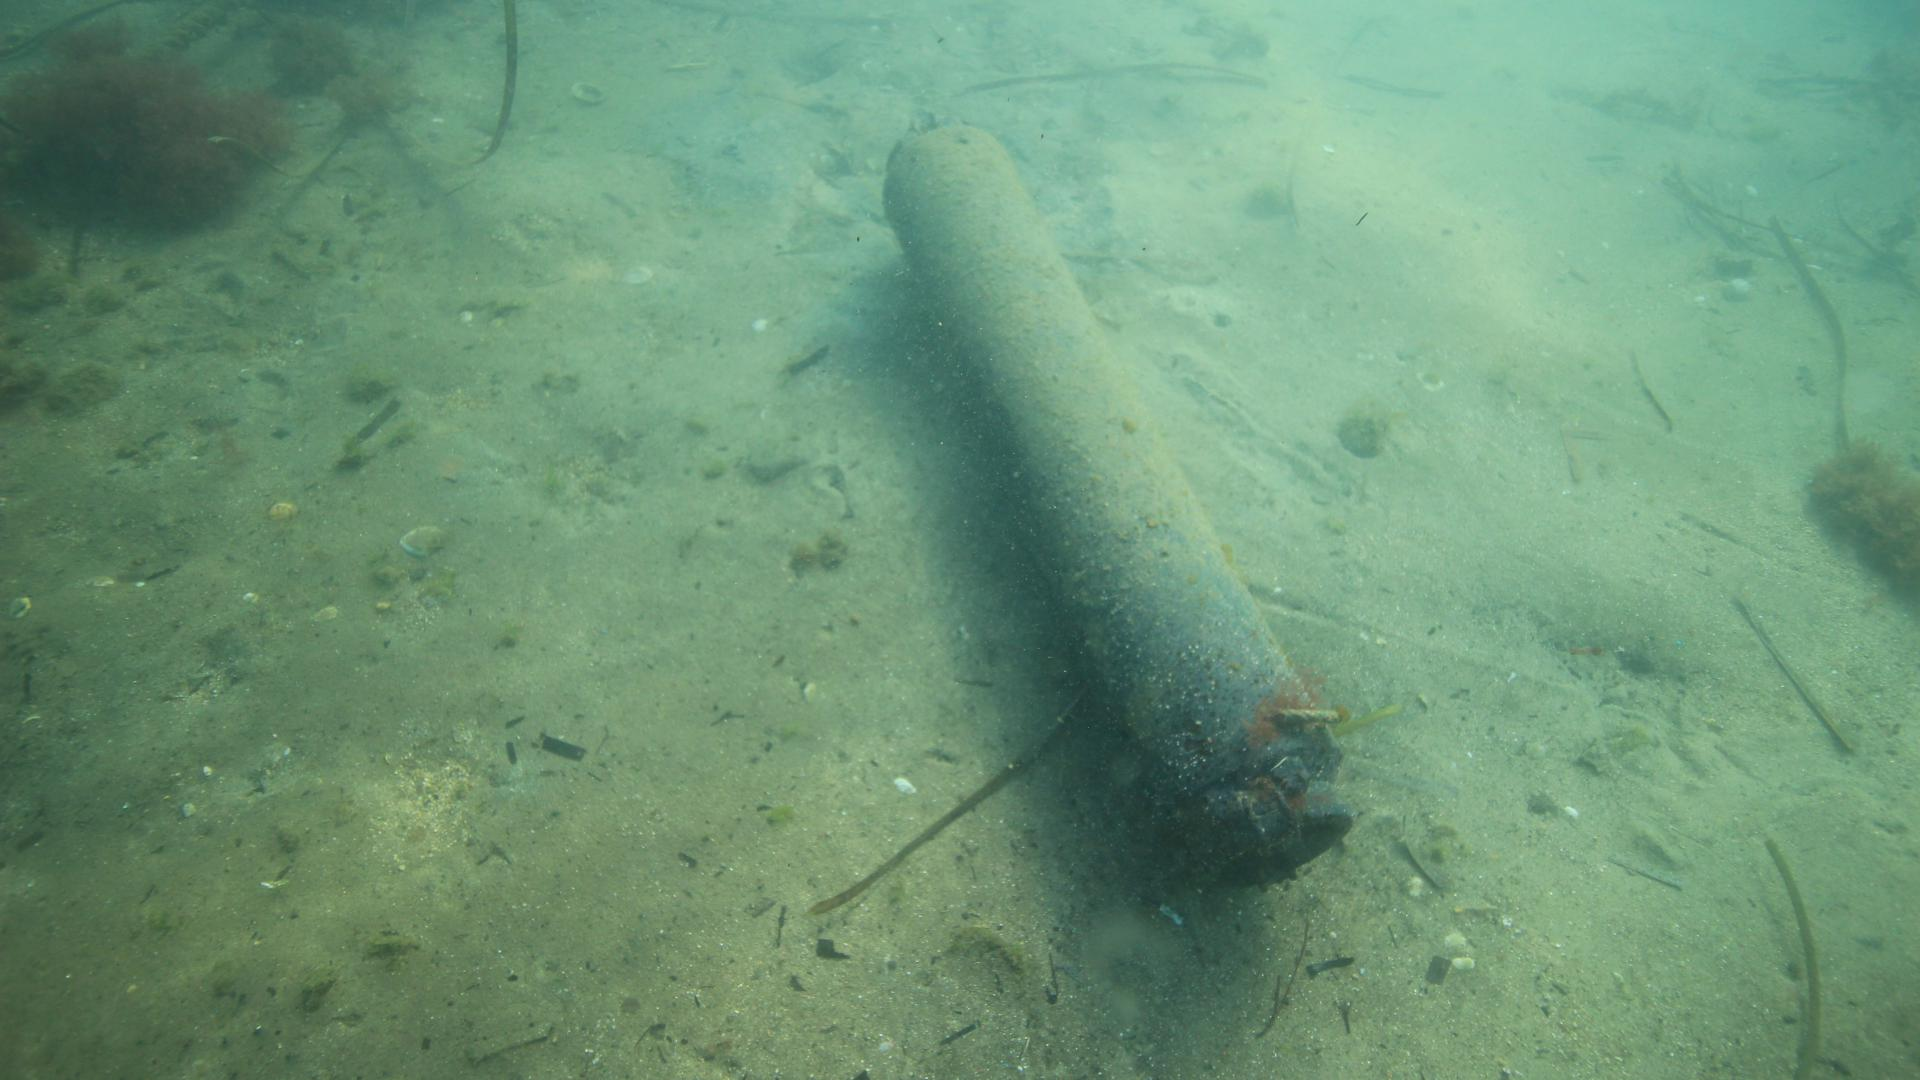eel fish trap: (880, 112, 1354, 886)
rope: (1273, 704, 1344, 727)
